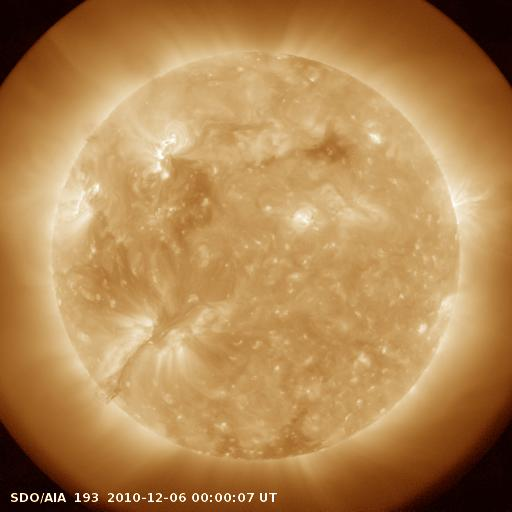coronal_hole: (212, 421, 321, 461), (304, 126, 353, 168)
